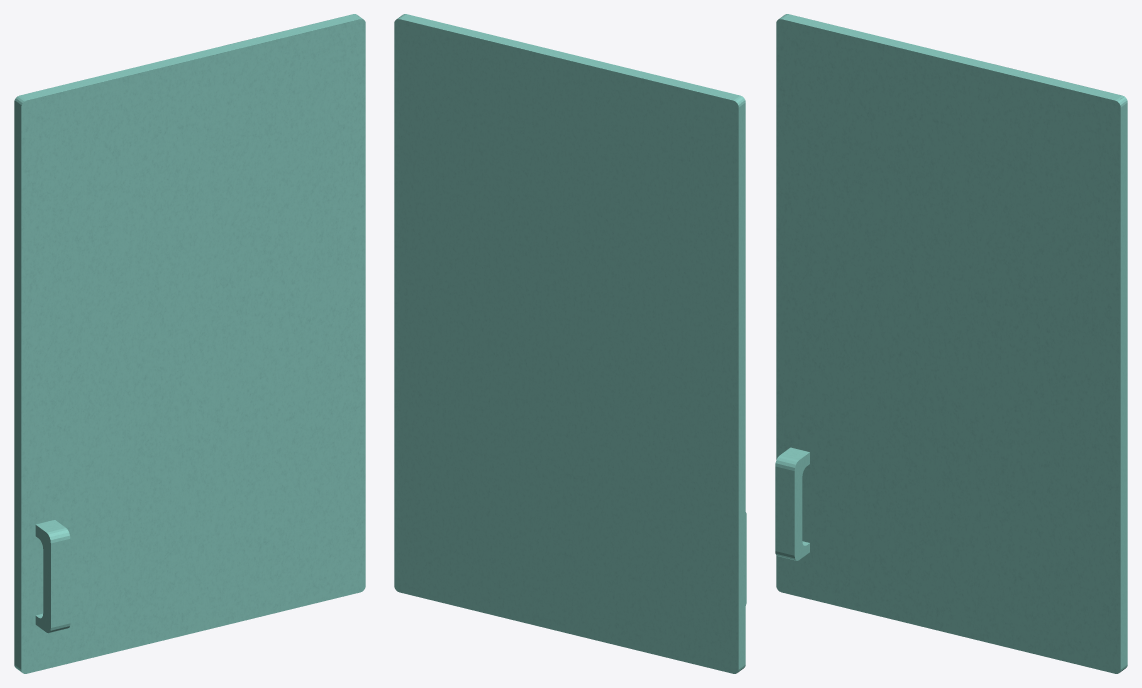
Rendered from DoubleHangingCabinets.001.fbx.
The picture shows the model from 3 angles, left to right: view 1: azimuth 30°, elevation 25°; view 2: azimuth 150°, elevation 25°; view 3: azimuth 330°, elevation 25°; orthographic projection.
Parts seen in each view (by area): view 1: DoubleHangingCabinets.001_Baked; view 2: DoubleHangingCabinets.001_Baked; view 3: DoubleHangingCabinets.001_Baked.
Part boxes in pixels (x1,y1,x2,y2): DoubleHangingCabinets.001_Baked: (14,14,365,673); DoubleHangingCabinets.001_Baked: (394,14,746,673); DoubleHangingCabinets.001_Baked: (775,14,1127,673).
Size of the model in its own units: 89.06 by 142 by 10.01.
1 material, 1 textured.
